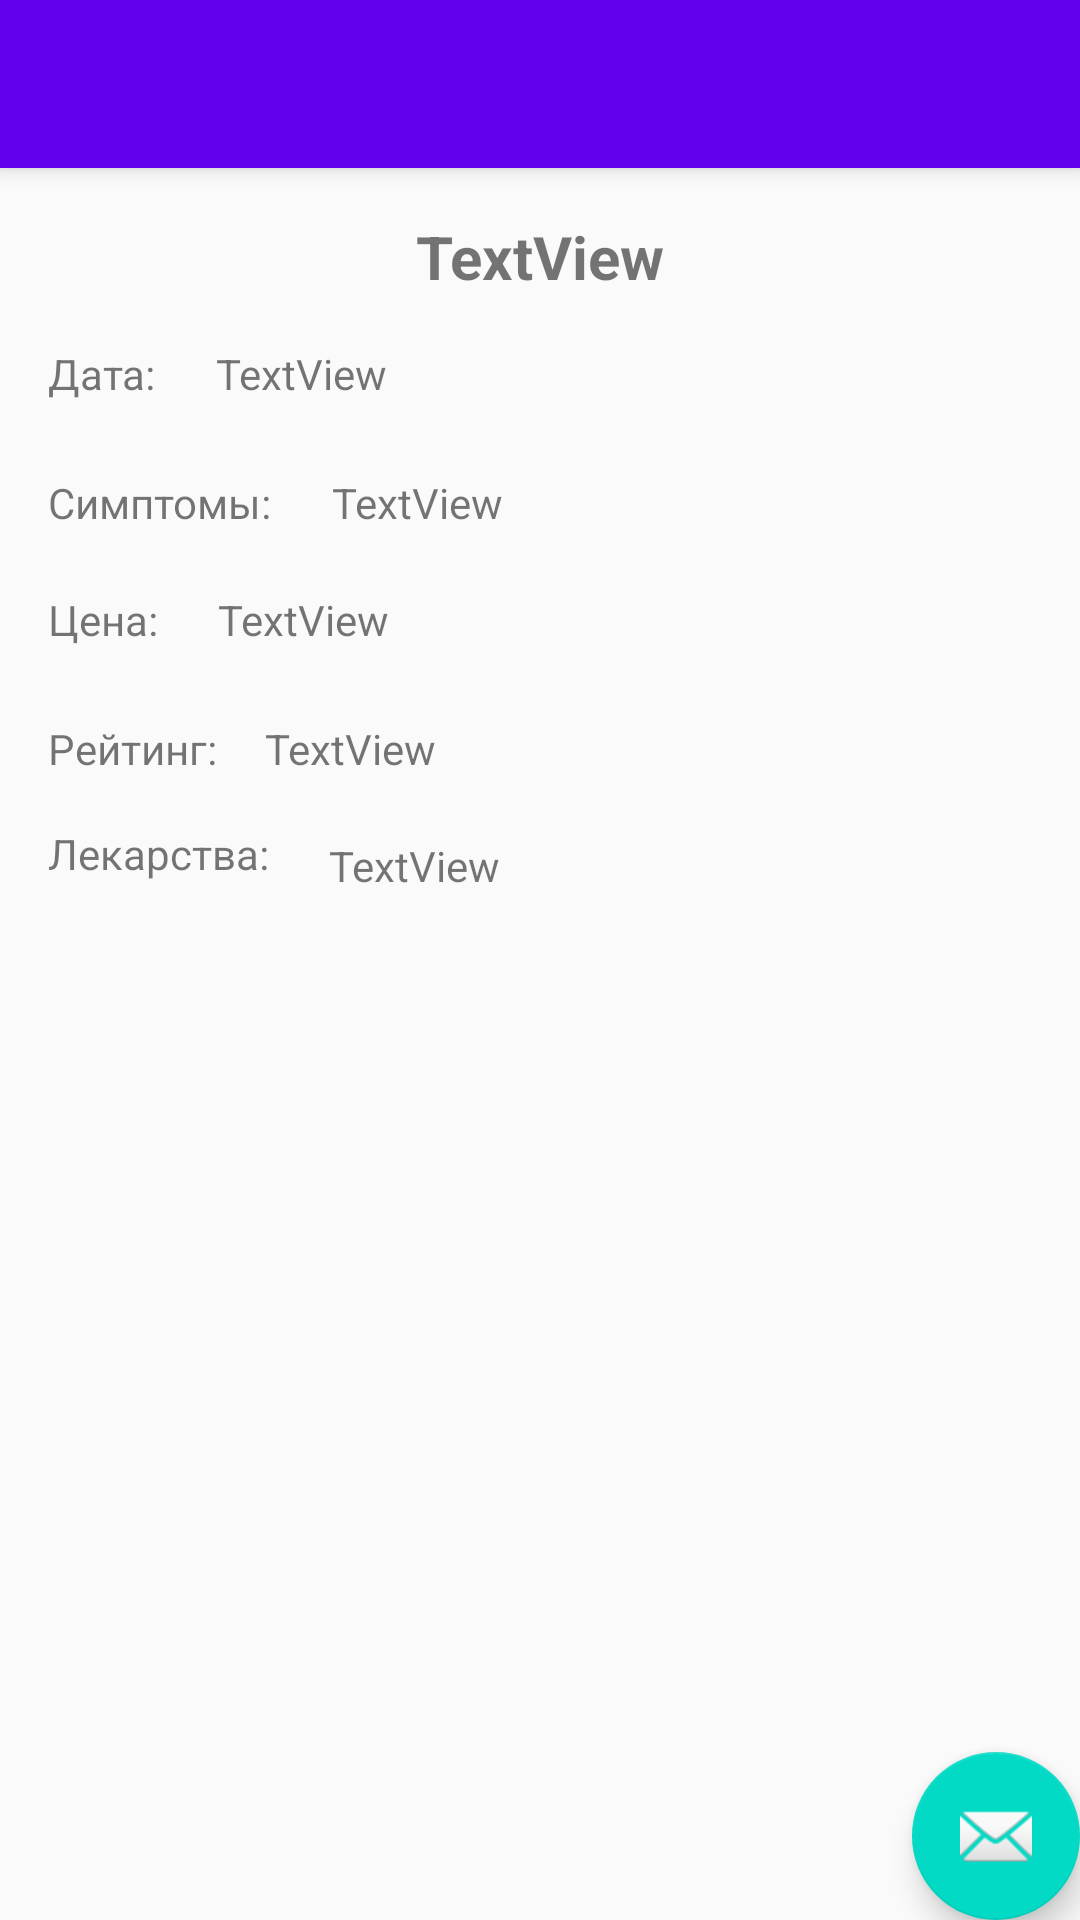

Icon click points for this 1080 x 1920 phone screenshot, format [x,y]:
email: [996,1836]
